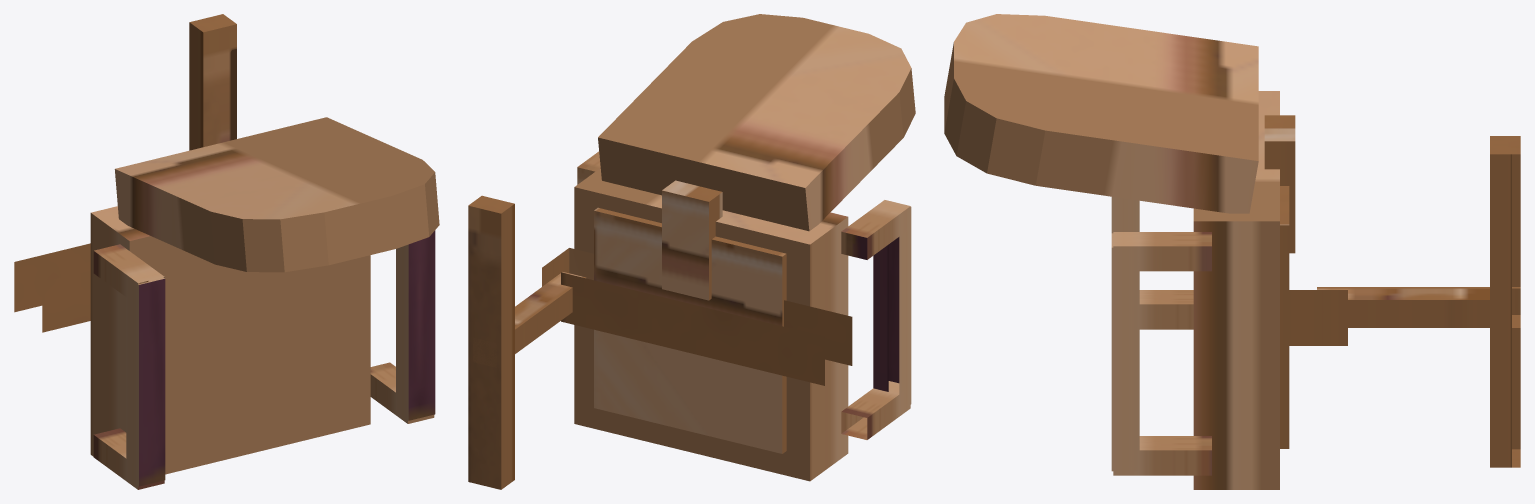
File: section-7-vp0-0.49_0.43_-0.0002_1.obj
3 views of the same model, side by side, from view 1: azimuth 30°, elevation 25°; view 2: azimuth 150°, elevation 25°; view 3: azimuth 270°, elevation 25° (orthographic). The views are drawn at different scales.
Size of the model in its own units: 0.6525 by 0.652 by 0.9338.
